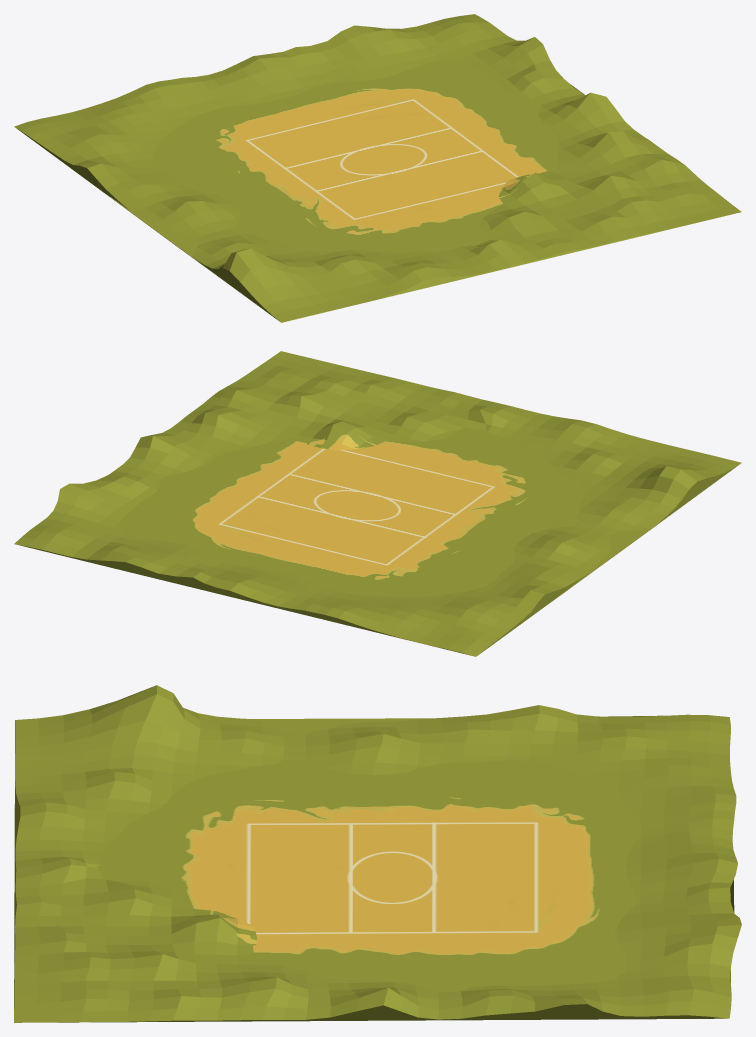
The model's file is map1_arena.fbx.
3 renders of one model, top to bottom at view 1: azimuth 30°, elevation 25°; view 2: azimuth 150°, elevation 25°; view 3: azimuth 270°, elevation 25°, orthographic. The views are drawn at different scales.
Visible parts, largest first — view 1: ground; view 2: ground; view 3: ground.
Part boxes in pixels (box(x1,y1,x2,y2)): ground: box(14, 14, 741, 322); ground: box(14, 351, 741, 656); ground: box(14, 685, 741, 1022).
Bounding box in the file's own units: 21055 × 1370 × 21026.
Materials: 1 (1 with a texture image).
